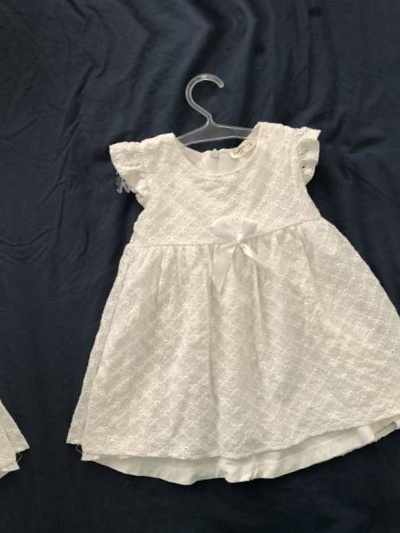Dress: (27, 75, 400, 513), (0, 130, 35, 533)
